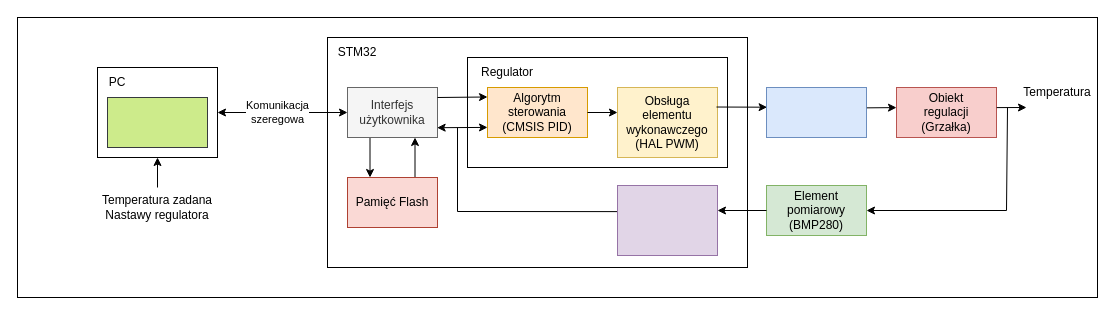
Image size: 1115x315. Some labels were removed from this diagram. The shapes that lost their labels are listed below. From the top down, each one's box as (x1, y1, x2, y2) in pixels, then its label:
(106, 96, 208, 148): Aplikacja desktopowa
(766, 86, 866, 138): Element wykonawczy (Zasilacz)
(616, 184, 718, 256): Obsługa elementu pomiarowego (BMP280 API)
